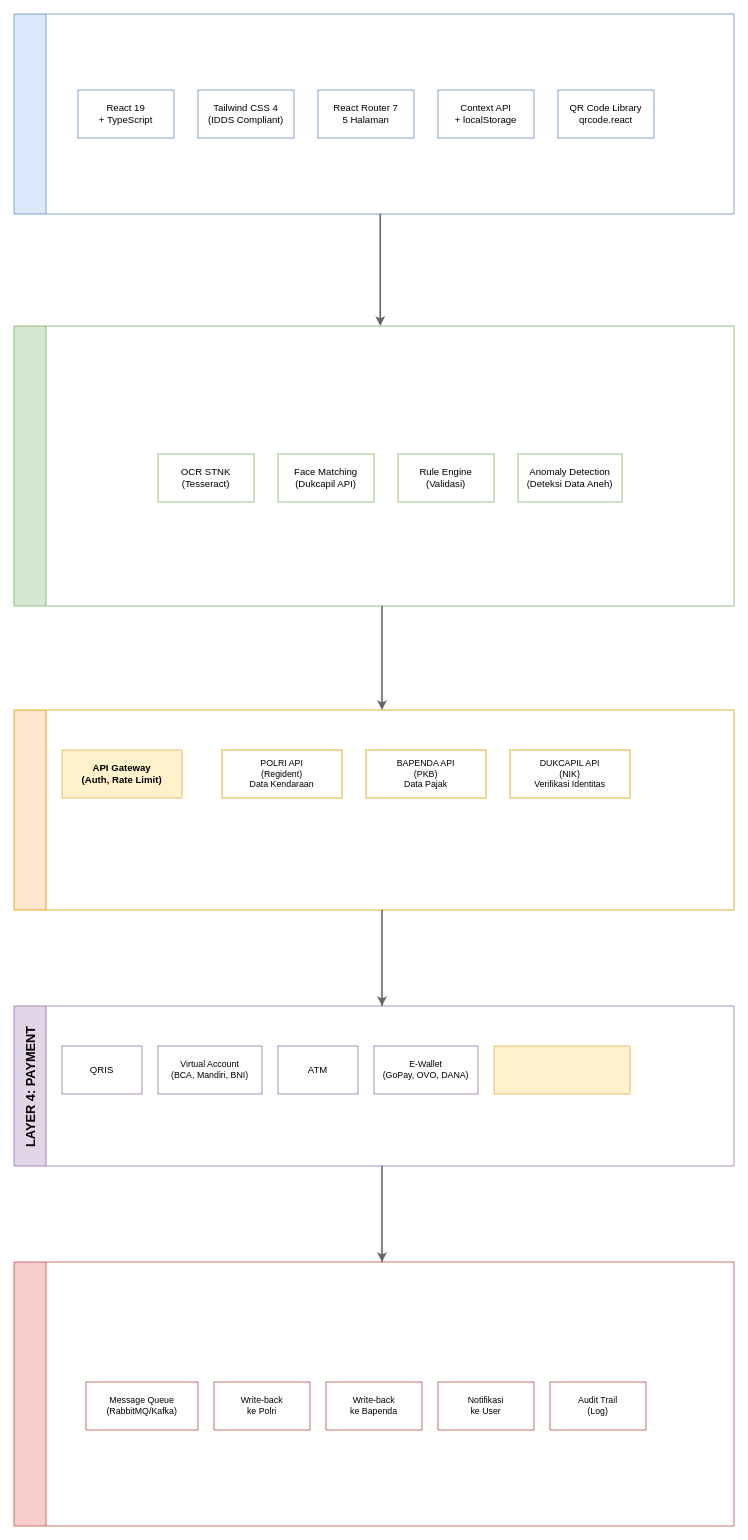
Image size: 748x1540. Some labels were removed from this diagram. The box of each missing label's shape, as (x1, y1, x2, y2) in pixels:
LAYER 1: USER INTERFACE: (13, 13, 734, 214)
LAYER 2: AI RECOGNITION & VERIFICATION: (13, 325, 734, 606)
LAYER 3: CORE INTEGRATION: (13, 709, 734, 910)
LAYER 5: WRITE-BACK & NOTIFICATION: (13, 1261, 734, 1526)
Payment Gateway (Midtrans/Xendit): (493, 1045, 630, 1094)
